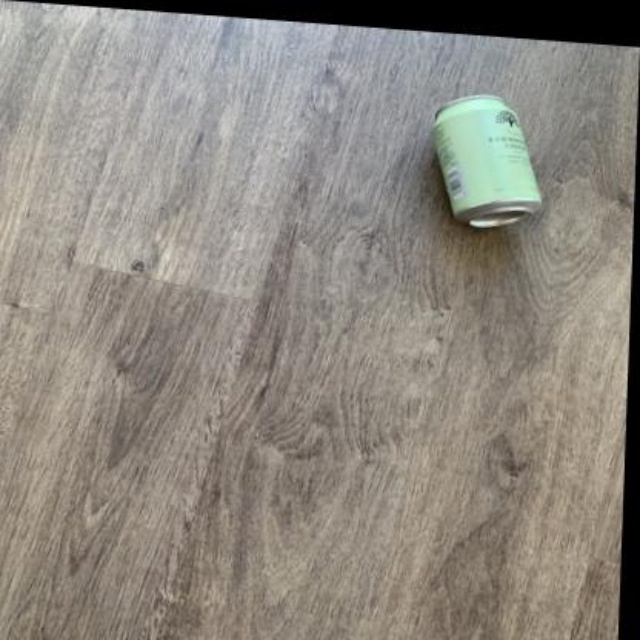trash: (432, 95, 540, 226)
